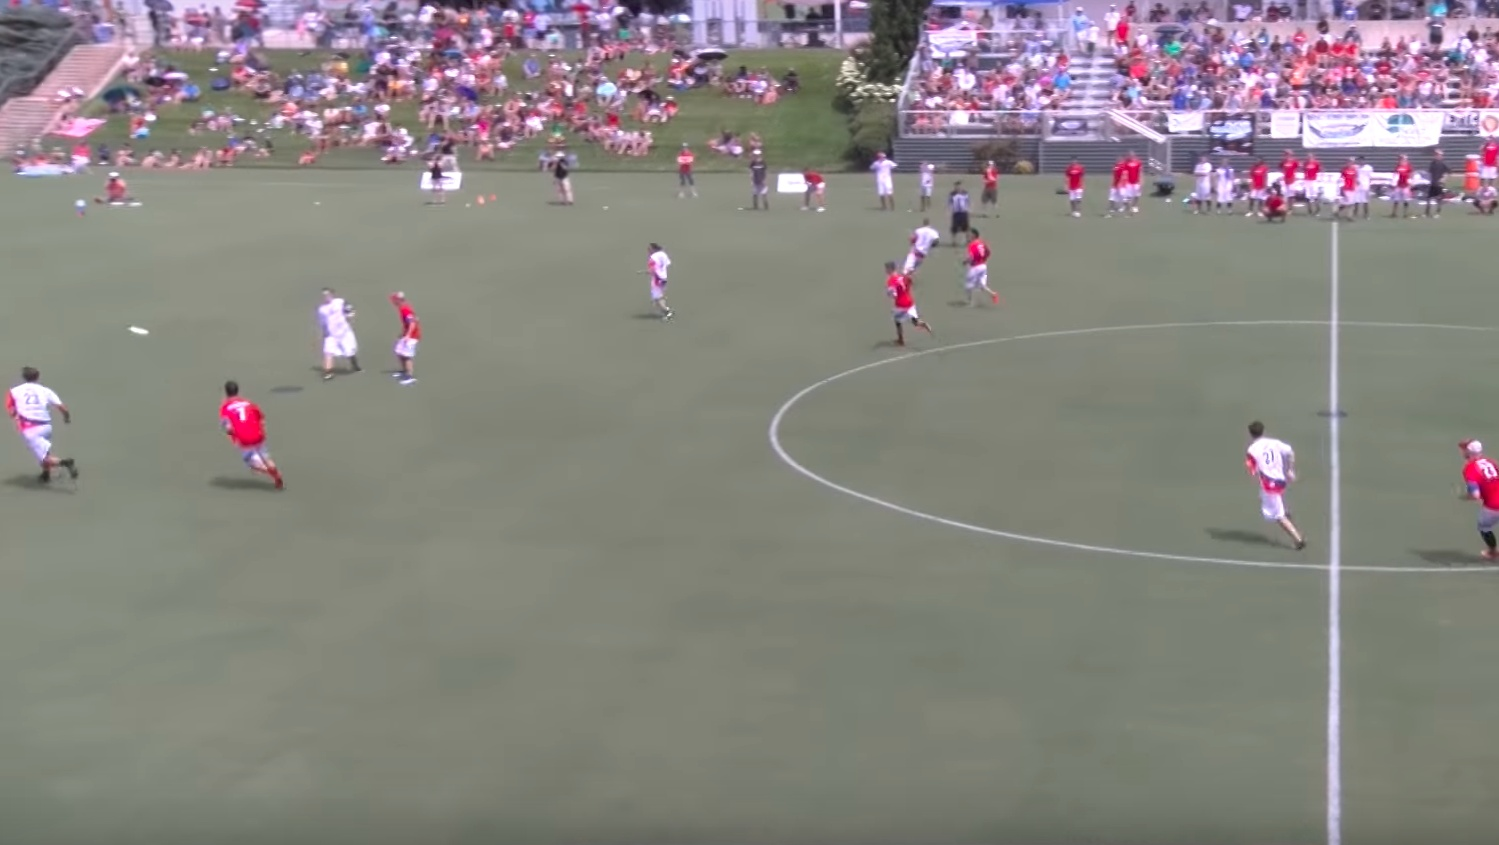frisbee: (127, 325, 150, 336)
